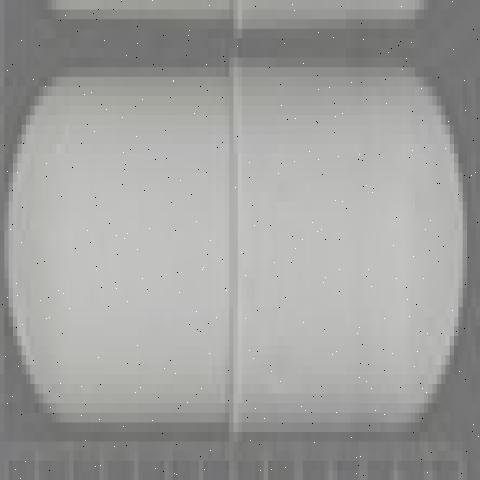Pill: (6, 19, 472, 450)
